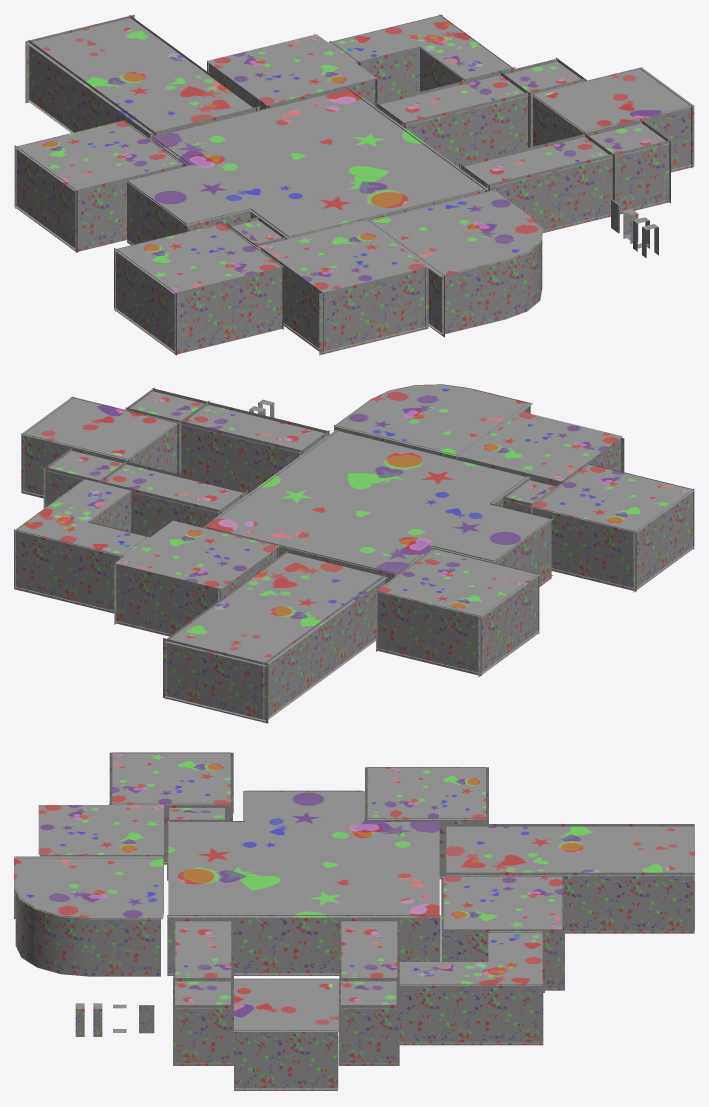
File: map.fbx
3 views of the same model, one above another, from view 1: azimuth 30°, elevation 25°; view 2: azimuth 150°, elevation 25°; view 3: azimuth 270°, elevation 25° (orthographic). The views are drawn at different scales.
Parts seen in each view (by area): view 1: roomMain, roomStalls, roomMed2, roomLgCurved, roomMed1.002, roomDeadEnd, hallway1, hallway1.001, roomLg1, hallwayTurn, roomMed1.001, hallwayTiny.003 (+2 smaller); view 2: roomMain, roomStalls, roomDeadEnd, roomMed2, hallwayTurn, roomMed1.001, roomLgCurved, hallway1, roomLg1, roomMed1.002, hallway1.001, hallwayTiny.002 (+2 smaller); view 3: roomMain, roomStalls, roomLgCurved, hallwayTurn, roomLg1, roomMed1.001, roomDeadEnd, roomMed2, roomMed1.002, hallwayTiny.002, hallwayTiny.003, hallway1.001 (+2 smaller).
Part boxes in pixels (box(x1,y1,x2,y2)): roomMain: box(125, 88, 488, 245); roomStalls: box(25, 14, 259, 140); roomMed2: box(114, 222, 283, 355); roomLgCurved: box(365, 189, 543, 337); roomMed1.002: box(257, 220, 428, 355); roomDeadEnd: box(14, 119, 184, 252); hallway1: box(459, 133, 614, 232); hallway1.001: box(374, 71, 529, 167); roomLg1: box(531, 67, 694, 172); hallwayTurn: box(328, 14, 515, 101); roomMed1.001: box(207, 34, 377, 109); hallwayTiny.003: box(584, 119, 670, 214); roomMain: box(203, 429, 553, 586); roomStalls: box(163, 549, 389, 723); roomDeadEnd: box(375, 548, 539, 677); roomMed2: box(530, 463, 694, 592); hallwayTurn: box(14, 478, 149, 613); roomMed1.001: box(114, 520, 278, 636); roomLgCurved: box(334, 384, 532, 466); hallway1: box(179, 401, 329, 493); roomLg1: box(21, 396, 178, 498); roomMed1.002: box(459, 412, 624, 484); hallway1.001: box(97, 460, 247, 536); hallwayTiny.002: box(43, 447, 127, 508); roomMain: box(167, 790, 440, 975); roomStalls: box(444, 824, 694, 933); roomLgCurved: box(14, 856, 163, 976); hallwayTurn: box(398, 931, 544, 1045); roomLg1: box(234, 978, 338, 1090); roomMed1.001: box(441, 876, 564, 990); roomDeadEnd: box(364, 767, 488, 879); roomMed2: box(109, 752, 233, 864); roomMed1.002: box(38, 805, 163, 915); hallwayTiny.002: box(338, 978, 399, 1065); hallwayTiny.003: box(173, 978, 233, 1065); hallway1.001: box(339, 918, 400, 981).
Bounding box in the file's own units: 10533 × 1091 × 10832.
